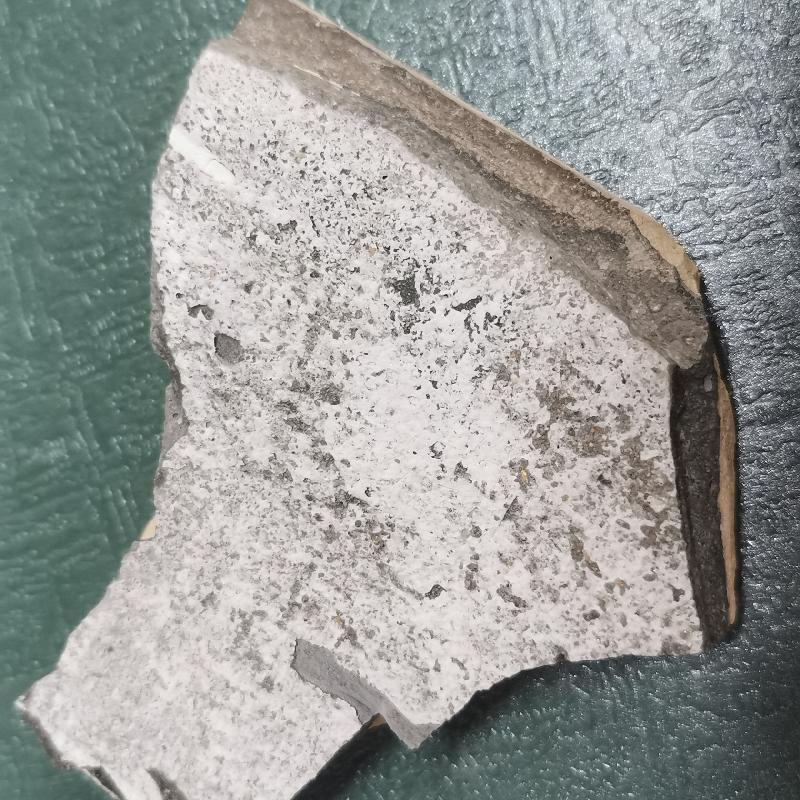tile: (21, 1, 752, 799)
